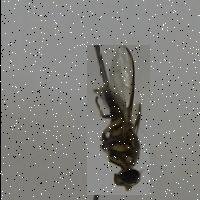Oriental-fruit-fly: (86, 45, 149, 195)
